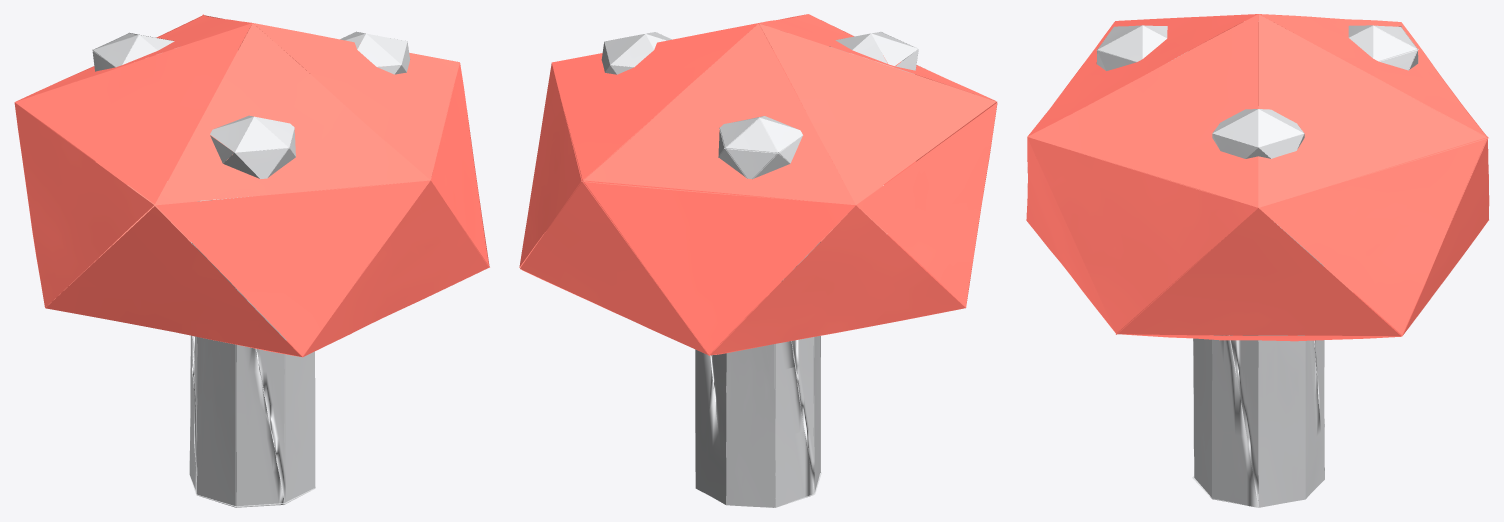
The model's file is mushroom.glb.
3 views of the same model, side by side, from view 1: azimuth 30°, elevation 25°; view 2: azimuth 150°, elevation 25°; view 3: azimuth 270°, elevation 25° (orthographic).
Visible parts, largest first — view 1: MushroomStem; view 2: MushroomStem; view 3: MushroomStem.
Boxes of the visible parts, x1,y1,x2,y2 form: MushroomStem: [14, 14, 489, 507]; MushroomStem: [519, 14, 997, 507]; MushroomStem: [1026, 14, 1489, 507].
Bounding box in the file's own units: 0.8053 × 0.8514 × 0.7665.
